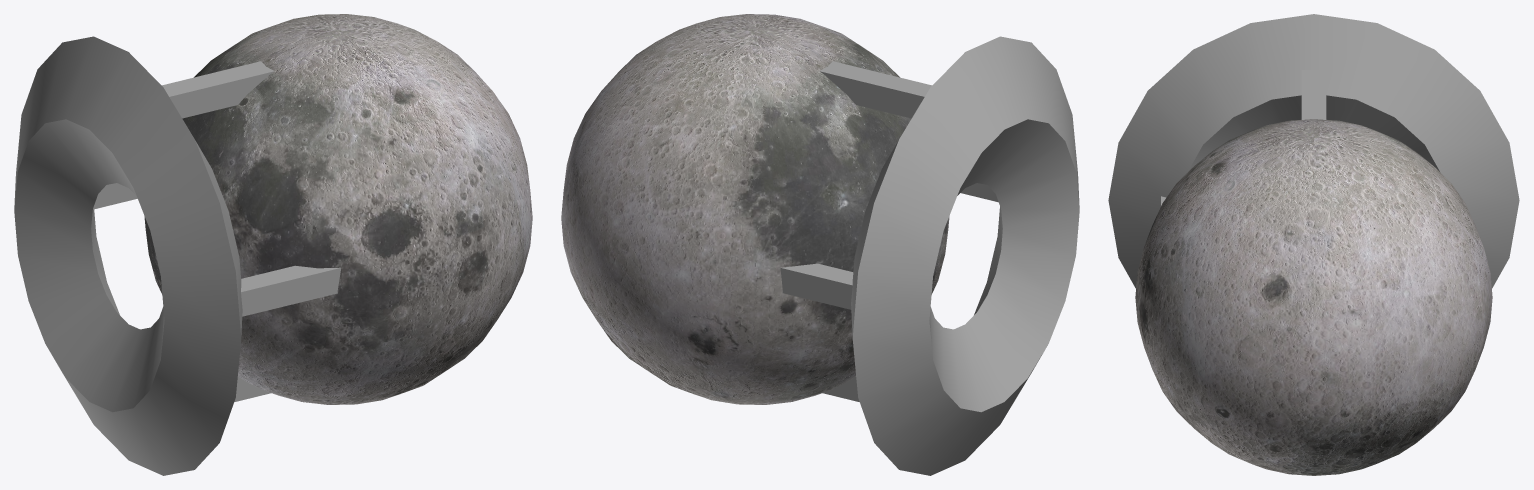
The model's file is lua.fbx.
The picture shows the model from 3 angles, left to right: view 1: azimuth 30°, elevation 25°; view 2: azimuth 150°, elevation 25°; view 3: azimuth 270°, elevation 25°; orthographic projection. The views are drawn at different scales.
Parts seen in each view (by area): view 1: pSphere2; view 2: pSphere2; view 3: pSphere2.
Boxes of the visible parts, bbox=[...] form: pSphere2: bbox=[14, 14, 532, 475]; pSphere2: bbox=[561, 14, 1079, 475]; pSphere2: bbox=[1108, 14, 1519, 475].
Size of the model in its own units: 2.47 by 2.3 by 2.3.
Materials: 2 (1 with a texture image).
